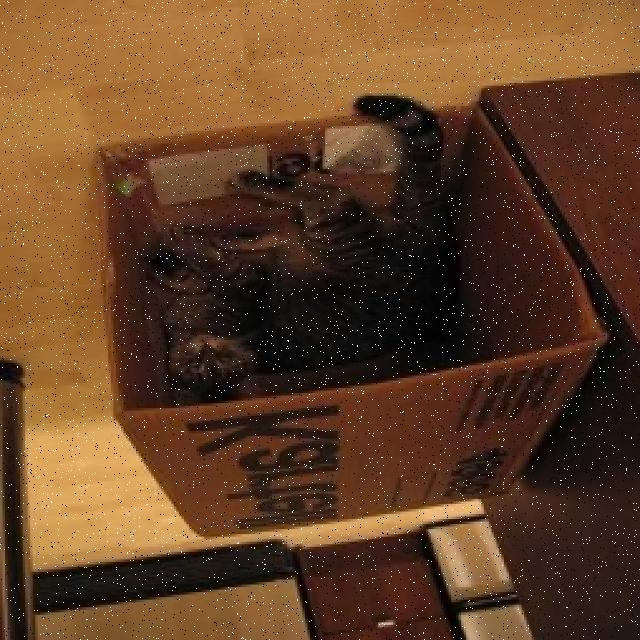box: (108, 90, 598, 551)
